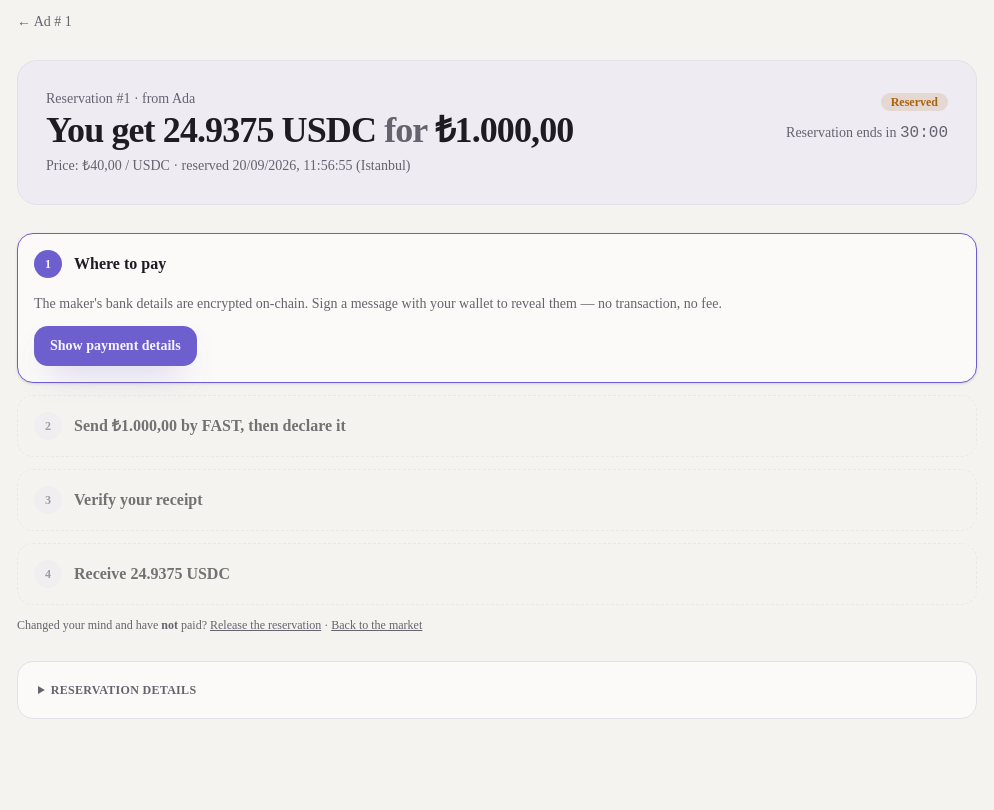
receipt and trade recovery › does not announce a failed contract release as success
This screenshot has width=994, height=810.
expect the button "Show payment details" is shown: met, box x1=34 y1=326 x2=197 y2=366
Click the button "Release the reservation" at (266, 625), box x1=210 y1=617 x2=321 y2=633
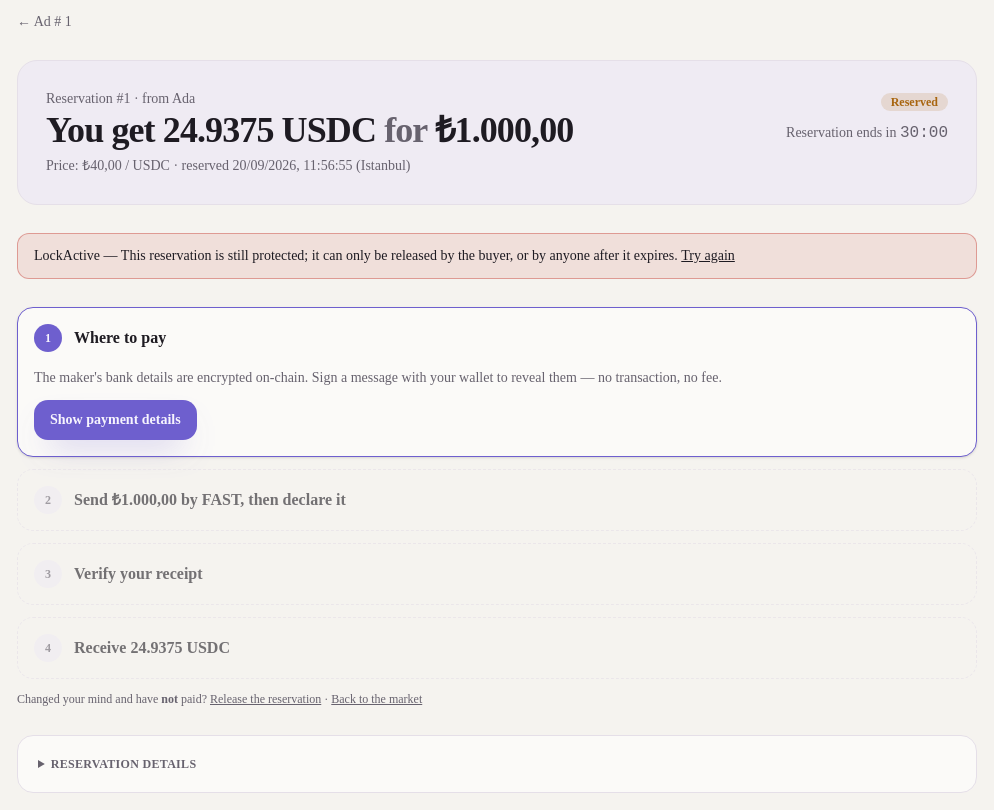
expect the text "LockActive" is shown: met, box x1=34 y1=248 x2=678 y2=263
